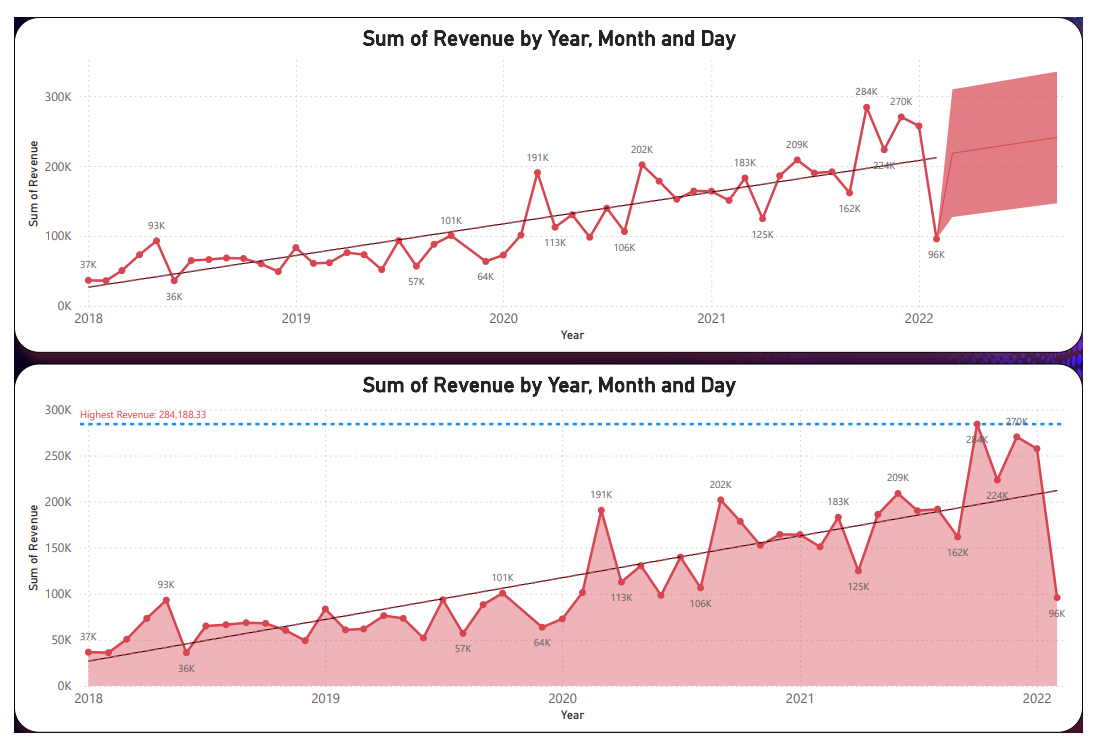

What the dashboard file says about the page in this screenshot:
{"tool":"powerbi","page":{"name":"Revenue trends","canvas":[1280,857],"ordinal":1},"visuals":[{"type":"lineChart","fields":{"Y":["Sum(Newly refreshed all data.Revenue)"],"Category":["Newly refreshed all data.Month.Variation.Date Hierarchy.Year","Newly refreshed all data.Month.Variation.Date Hierarchy.Month","Newly refreshed all data.Month.Variation.Date Hierarchy.Day"]},"box":[0,0,1280,401.7],"z":0},{"type":"areaChart","fields":{"Category":["Newly refreshed all data.Month.Variation.Date Hierarchy.Year","Newly refreshed all data.Month.Variation.Date Hierarchy.Month","Newly refreshed all data.Month.Variation.Date Hierarchy.Day"],"Y":["Sum(Newly refreshed all data.Revenue)"]},"box":[0,415,1280,441.7],"z":1000}]}

Visuals, with their boxes in screenshot pixels (x1, y1, x2, y2), scaled from the page's 1280x857 canvas onto the 1101x750 screenshot:
lineChart - Sum(Newly refreshed all data.Revenue) x Newly refreshed all data.Month.Variation.Date Hierarchy.Year: <bbox>0, 0, 1100, 352</bbox>
areaChart - Newly refreshed all data.Month.Variation.Date Hierarchy.Year x Newly refreshed all data.Month.Variation.Date Hierarchy.Month: <bbox>0, 363, 1100, 749</bbox>
